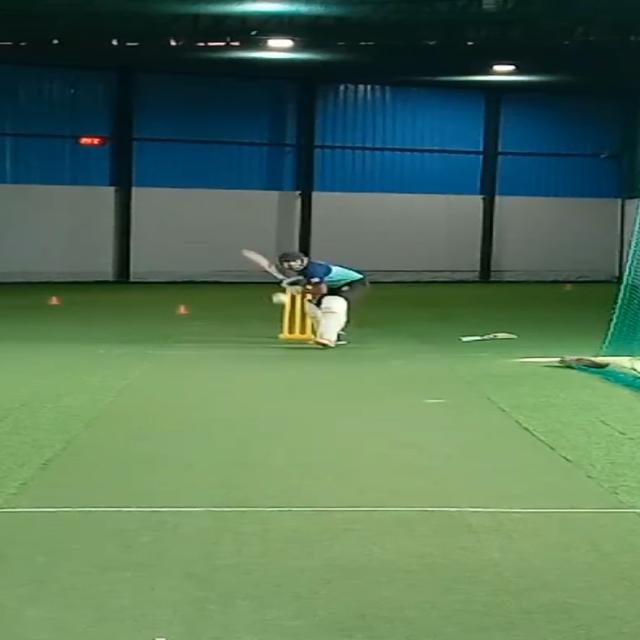ball: (267, 292, 296, 306)
stump: (277, 286, 315, 340)
